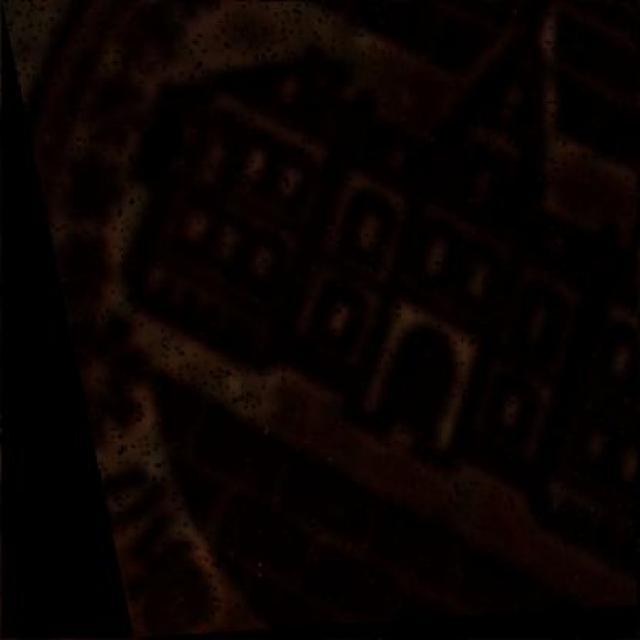Manhole: (1, 1, 637, 638)
